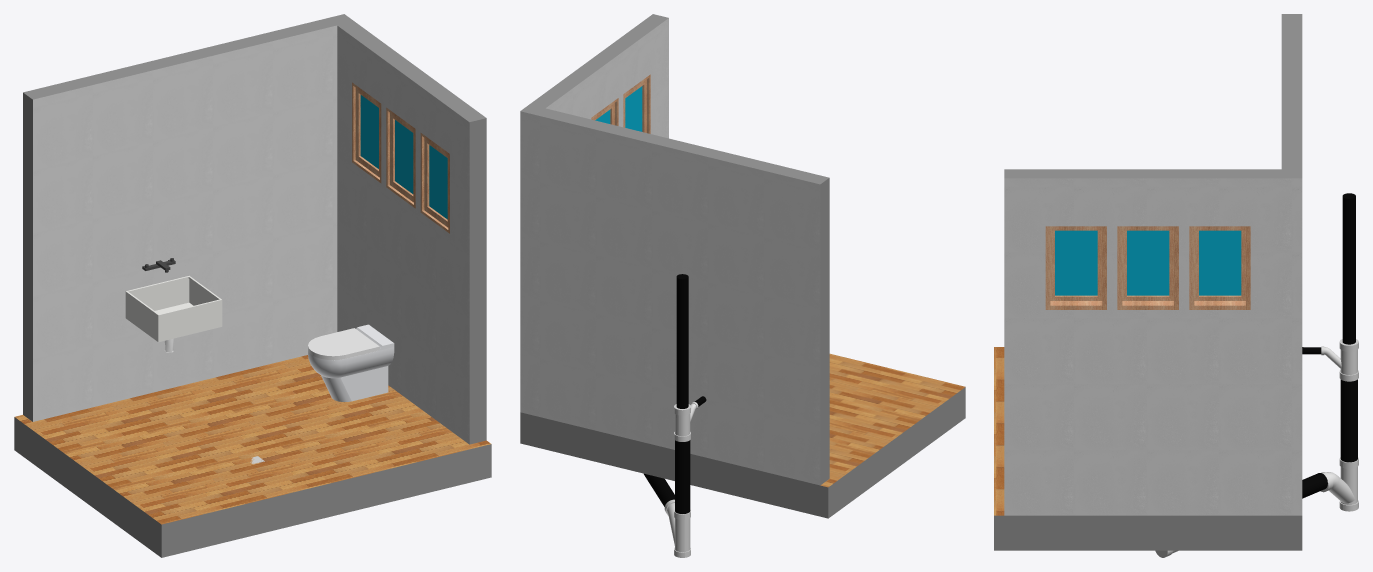
Rendered from Banheiro.gltf.
3 renders of one model, left to right at view 1: azimuth 30°, elevation 25°; view 2: azimuth 150°, elevation 25°; view 3: azimuth 270°, elevation 25°, orthographic. The views are drawn at different scales.
Visible parts, largest first — view 1: Gypsum Wall Board; view 2: Gypsum Wall Board; view 3: Gypsum Wall Board.
Part boxes in pixels (x1,y1,x2,y2): Gypsum Wall Board: (14,14,491,557); Gypsum Wall Board: (520,14,965,557); Gypsum Wall Board: (994,14,1358,557).
Size of the model in its own units: 2.64 by 3.13 by 2.41.
13 materials, 3 textured.
